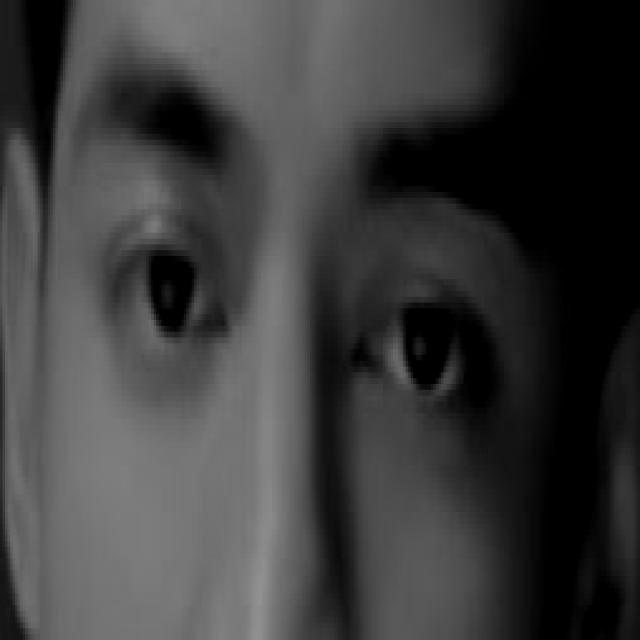real: (87, 105, 525, 498)
